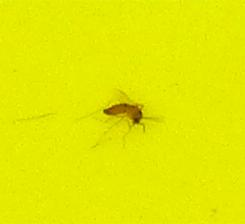Nematocera: (100, 100, 145, 124)
